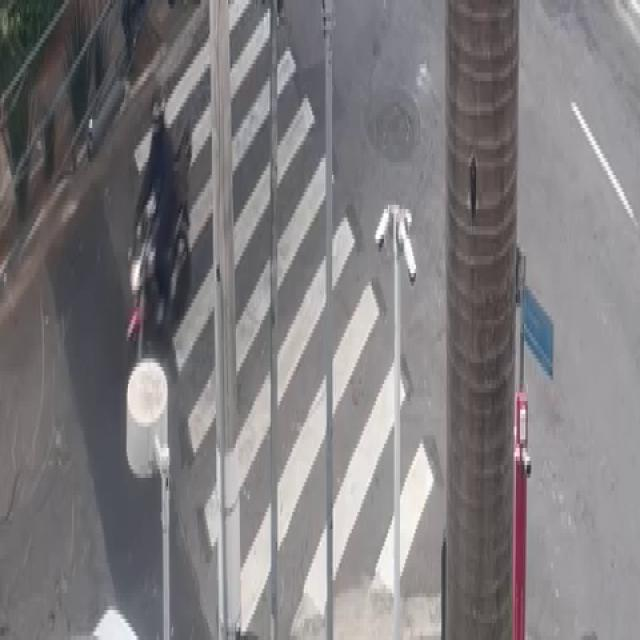motorbike: (121, 107, 199, 368)
